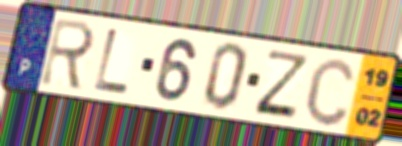0: (201, 39, 251, 113)
6: (154, 35, 199, 104)
C: (302, 55, 358, 129)
L: (91, 25, 133, 96)
R: (37, 15, 98, 94)
Z: (250, 47, 311, 121)
